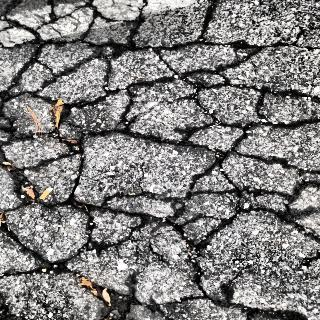alligator-crack: (3, 10, 290, 300)
